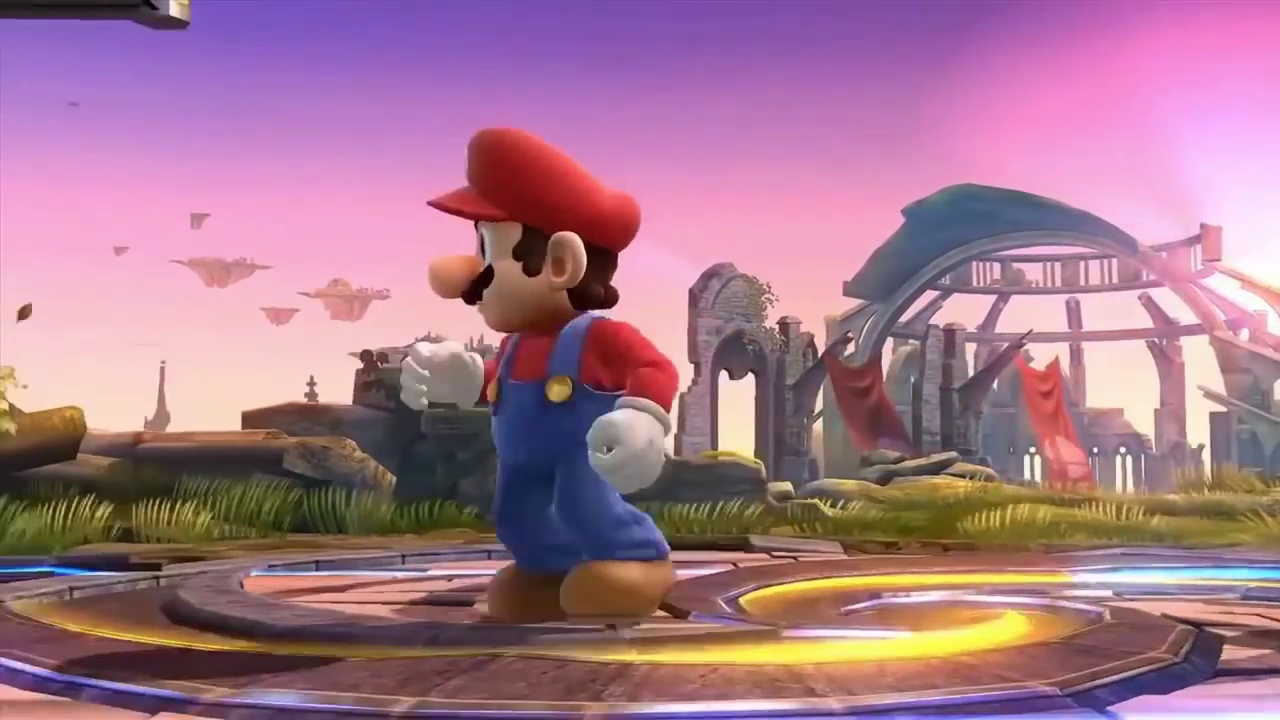Mario: (397, 127, 678, 625)
